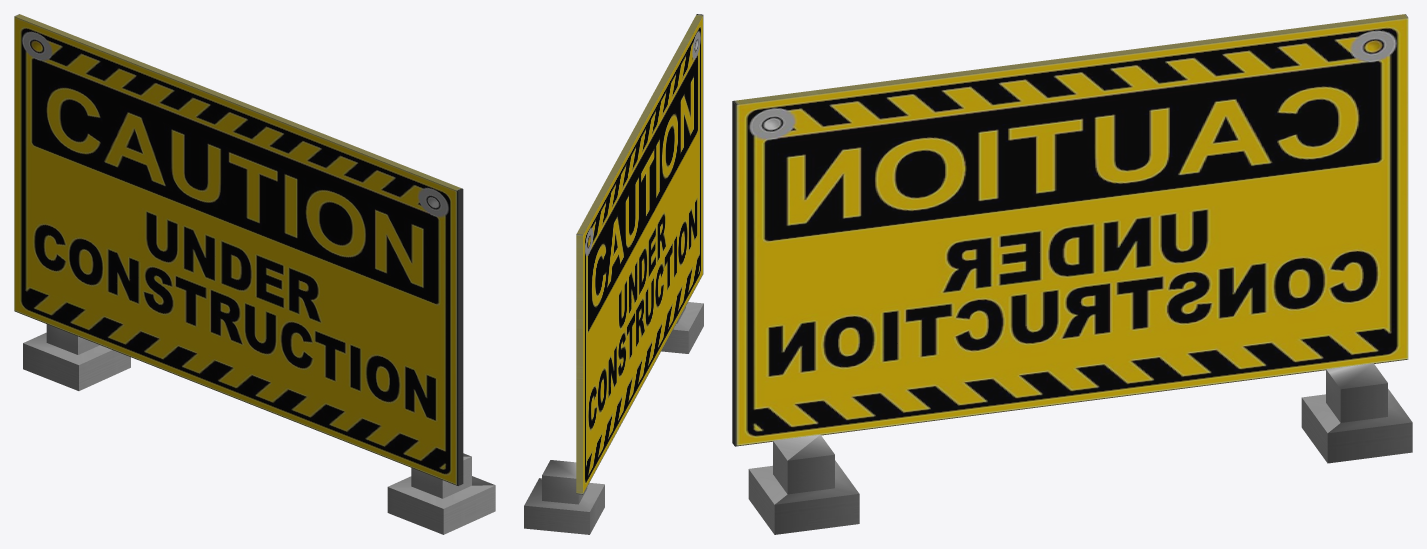
File: signalroadclosed2.fbx
3 renders of one model, left to right at view 1: azimuth 30°, elevation 25°; view 2: azimuth 150°, elevation 25°; view 3: azimuth 270°, elevation 25°, orthographic. The views are drawn at different scales.
Parts seen in each view (by area): view 1: signalroadclosed2; view 2: signalroadclosed2; view 3: signalroadclosed2.
Boxes of the visible parts, bbox=[...] form: signalroadclosed2: bbox=[14, 14, 495, 534]; signalroadclosed2: bbox=[524, 14, 703, 534]; signalroadclosed2: bbox=[732, 14, 1412, 534].
Size of the model in its own units: 126 by 200 by 306.
